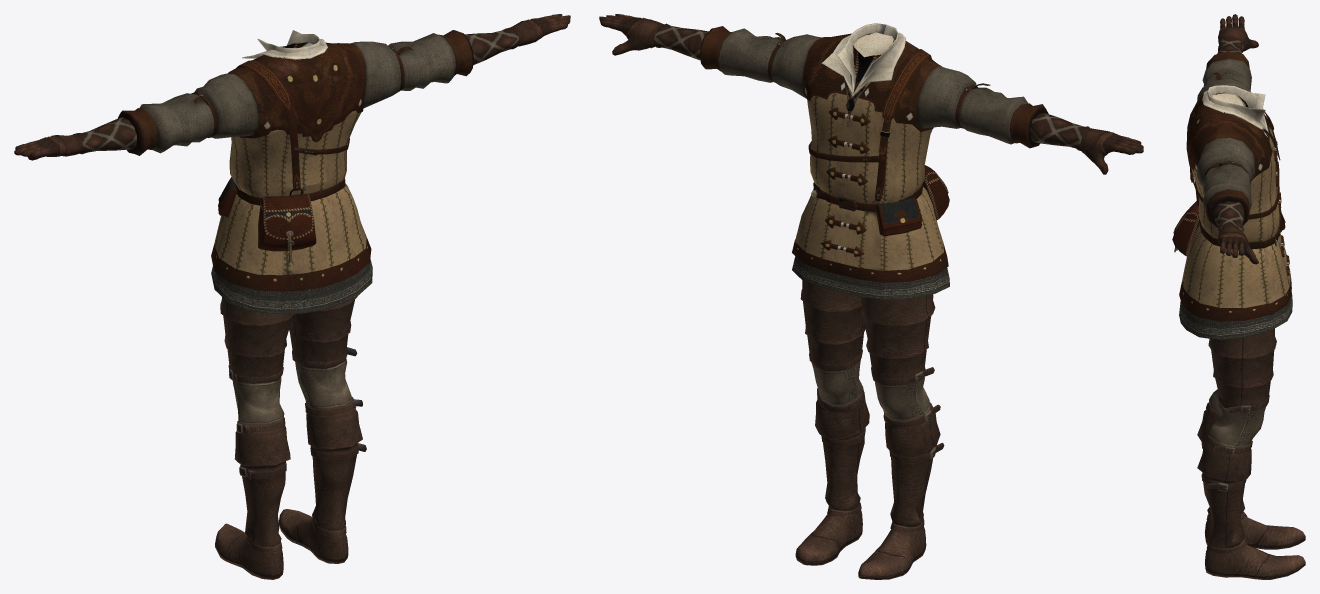
The model's file is human_clothing.fbx.
3 views of the same model, side by side, from view 1: azimuth 30°, elevation 25°; view 2: azimuth 150°, elevation 25°; view 3: azimuth 270°, elevation 25° (orthographic). The views are drawn at different scales.
Visible parts, largest first — view 1: hmm24:mesh2, hmm24:mesh5, hmm24:mesh4, hmm24:mesh21, hmm24:mesh12, hmm24:mesh02, hmm24:mesh0, hmm24:mesh6; view 2: hmm24:mesh2, hmm24:mesh5, hmm24:mesh4, hmm24:mesh12, hmm24:mesh21, hmm24:mesh02, hmm24:mesh0, hmm24:mesh6, hmm24:mesh7, hmm24:mesh8; view 3: hmm24:mesh2, hmm24:mesh4, hmm24:mesh5, hmm24:mesh21, hmm24:mesh12, hmm24:mesh02, hmm24:mesh0, hmm24:mesh6, hmm24:mesh7, hmm24:mesh8.
Part boxes in pixels (<box>): hmm24:mesh2: <box>215,296,366,579</box>; hmm24:mesh5: <box>197,42,392,291</box>; hmm24:mesh4: <box>211,183,372,314</box>; hmm24:mesh21: <box>139,33,455,153</box>; hmm24:mesh12: <box>201,43,393,265</box>; hmm24:mesh02: <box>14,14,570,160</box>; hmm24:mesh0: <box>232,359,352,425</box>; hmm24:mesh6: <box>117,30,473,205</box>; hmm24:mesh2: <box>795,280,944,579</box>; hmm24:mesh5: <box>778,33,969,282</box>; hmm24:mesh4: <box>792,187,949,299</box>; hmm24:mesh12: <box>807,32,932,204</box>; hmm24:mesh21: <box>718,28,1028,144</box>; hmm24:mesh02: <box>599,14,1143,174</box>; hmm24:mesh0: <box>811,361,930,420</box>; hmm24:mesh6: <box>700,26,1048,211</box>; hmm24:mesh7: <box>837,23,899,95</box>; hmm24:mesh8: <box>822,32,906,96</box>; hmm24:mesh2: <box>1197,328,1305,579</box>; hmm24:mesh4: <box>1179,223,1292,340</box>; hmm24:mesh5: <box>1172,78,1291,321</box>; hmm24:mesh21: <box>1196,58,1277,246</box>; hmm24:mesh12: <box>1174,93,1280,252</box>; hmm24:mesh02: <box>1213,14,1258,264</box>; hmm24:mesh0: <box>1209,389,1265,447</box>; hmm24:mesh6: <box>1200,51,1278,249</box>; hmm24:mesh7: <box>1207,85,1267,130</box>; hmm24:mesh8: <box>1202,90,1268,132</box>.
Bounding box in the file's own units: 5.92 × 5.33 × 1.38.
